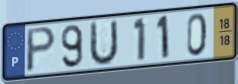0: (186, 12, 209, 58)
1: (155, 13, 171, 62), (132, 17, 149, 63)
9: (60, 24, 85, 69)
P: (25, 25, 58, 75)
U: (87, 18, 120, 69)
